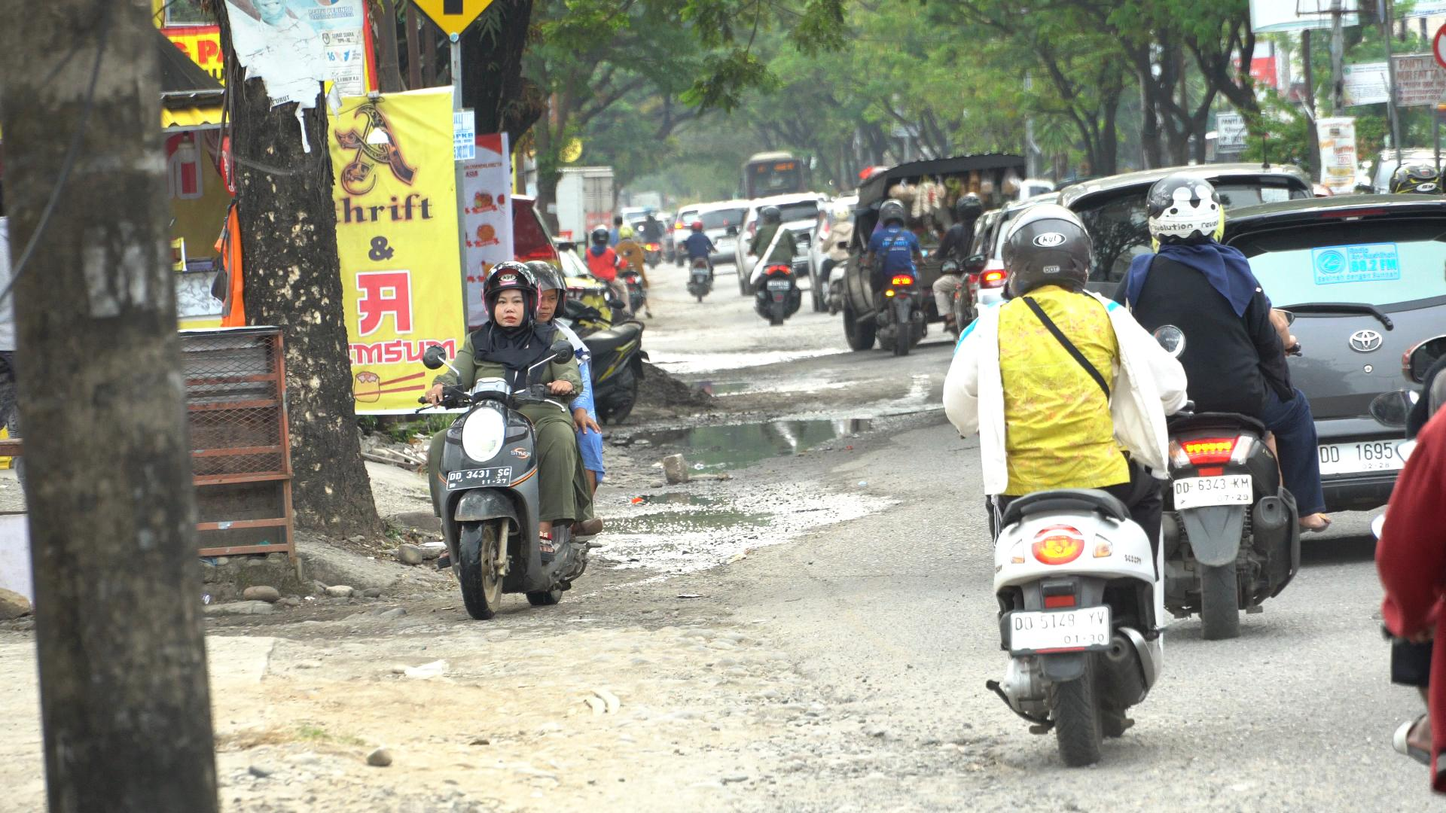number-plate: (449, 464, 510, 490)
